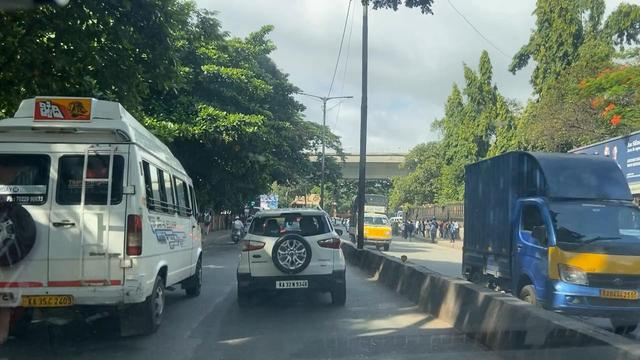HMV: (16, 91, 208, 341)
LMV: (239, 203, 353, 317)
